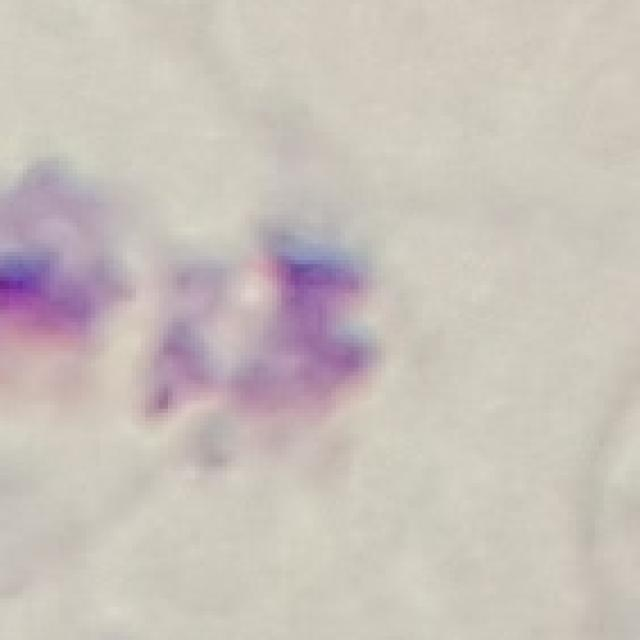non-sperm: (140, 235, 382, 425)
